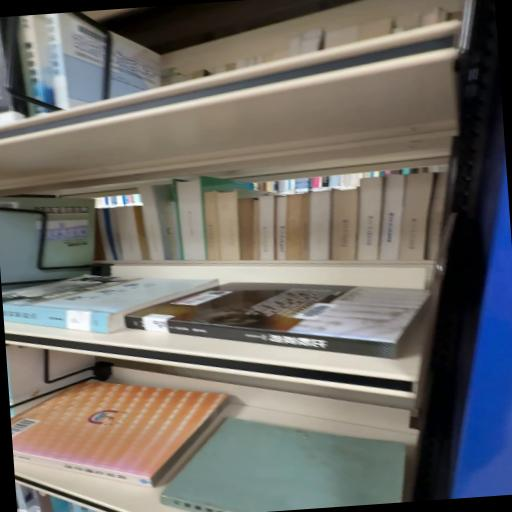flat: (12, 381, 229, 487), (126, 284, 430, 359), (162, 420, 406, 512), (3, 276, 219, 334)
